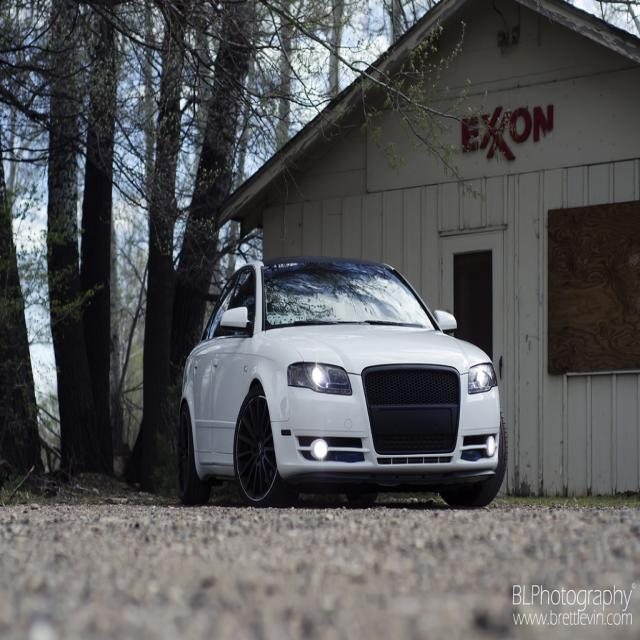car: (176, 256, 507, 507)
